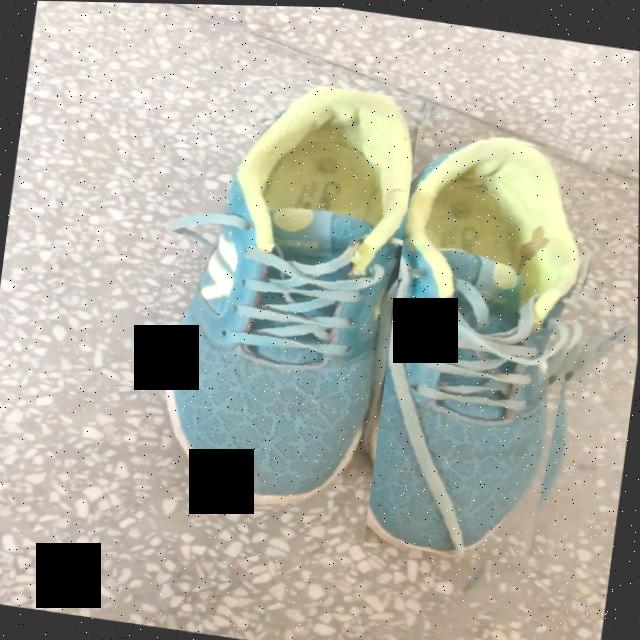shoe: (161, 85, 415, 509), (367, 138, 585, 552)
